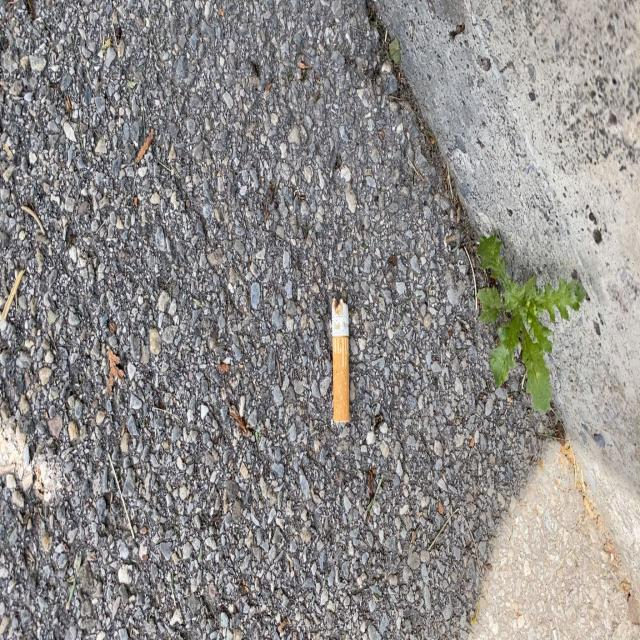other waste: (331, 292, 350, 427)
